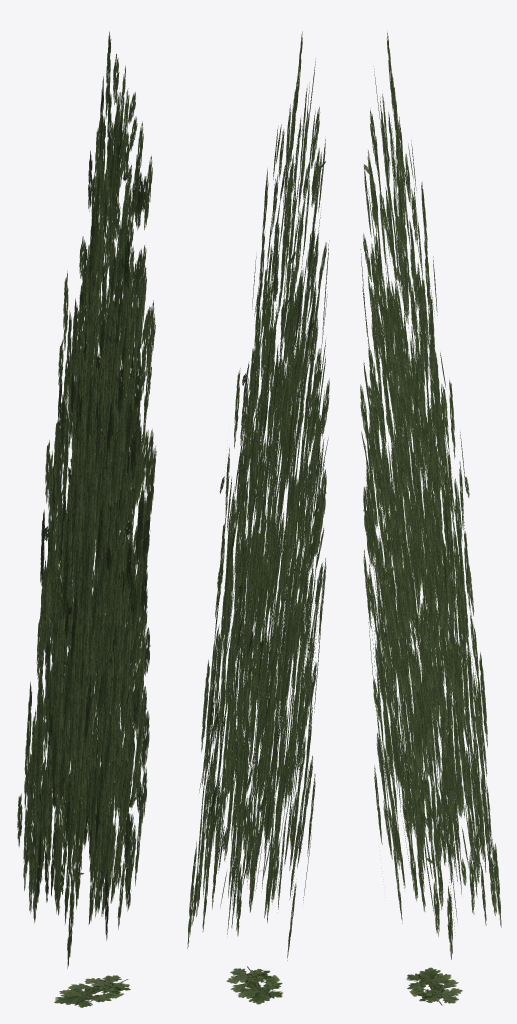
Rendered from cypress.glb.
The picture shows the model from 3 angles, left to right: view 1: azimuth 90°, elevation 25°; view 2: azimuth 150°, elevation 25°; view 3: azimuth 330°, elevation 25°; orthographic projection. The views are drawn at different scales.
Visible parts, largest first — view 1: Icosphere.003, Plane; view 2: Icosphere.003, Plane; view 3: Icosphere.003, Plane.
Part boxes in pixels (x1,y1,x2,y2): Icosphere.003: (17,31,156,968); Plane: (54,975,130,1007); Icosphere.003: (187,31,329,960); Plane: (226,966,282,1004); Icosphere.003: (360,33,501,959); Plane: (406,967,462,1005).
Size of the model in its own units: 0.3274 by 2.58 by 0.3362.
Materials: 2 (2 with a texture image).
